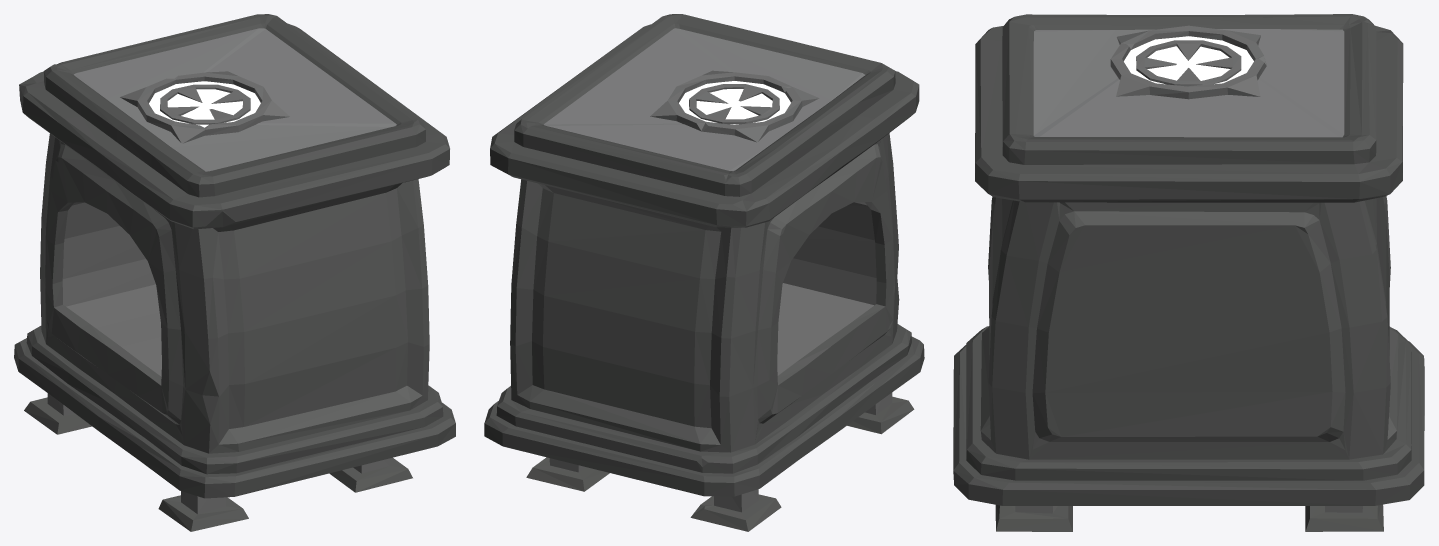
Rendered from SFI_Oven_002.fbx.
3 views of the same model, side by side, from view 1: azimuth 30°, elevation 25°; view 2: azimuth 150°, elevation 25°; view 3: azimuth 270°, elevation 25° (orthographic). The views are drawn at different scales.
Parts seen in each view (by area): view 1: SFI_Oven_002; view 2: SFI_Oven_002; view 3: SFI_Oven_002.
Part boxes in pixels (x1,y1,x2,y2): SFI_Oven_002: (14,14,455,531); SFI_Oven_002: (484,14,924,531); SFI_Oven_002: (953,14,1424,531).
Bounding box in the file's own units: 86.46 × 103 × 110.
